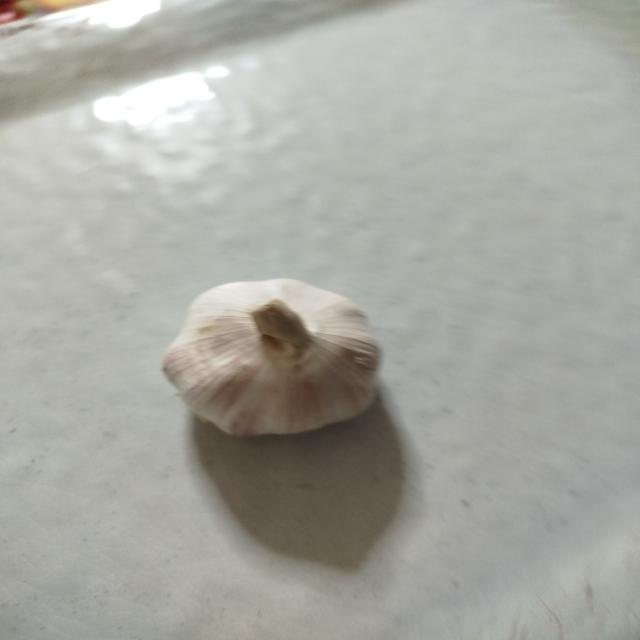garlic: (160, 277, 382, 438)
